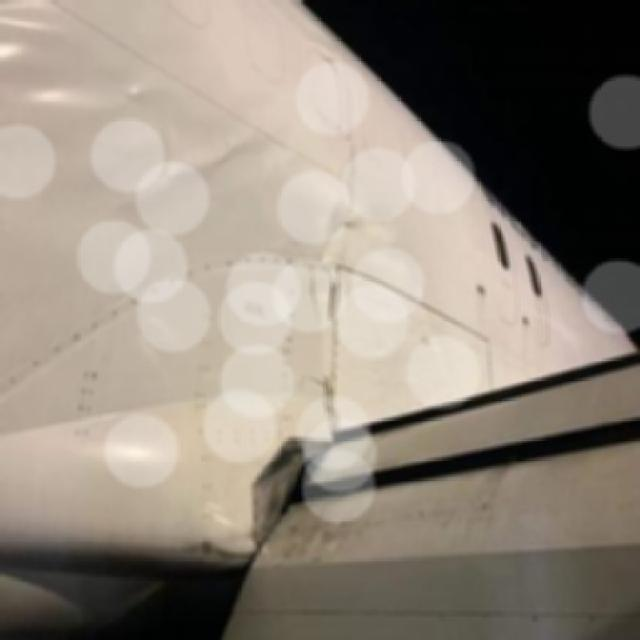dent: (160, 124, 271, 187), (319, 203, 372, 269), (3, 2, 65, 58), (27, 75, 87, 108), (114, 69, 151, 105)
